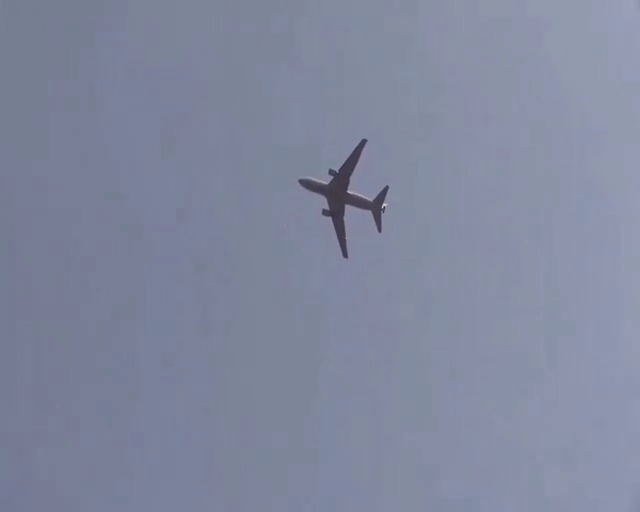AIRPLANE: (297, 137, 390, 259)
